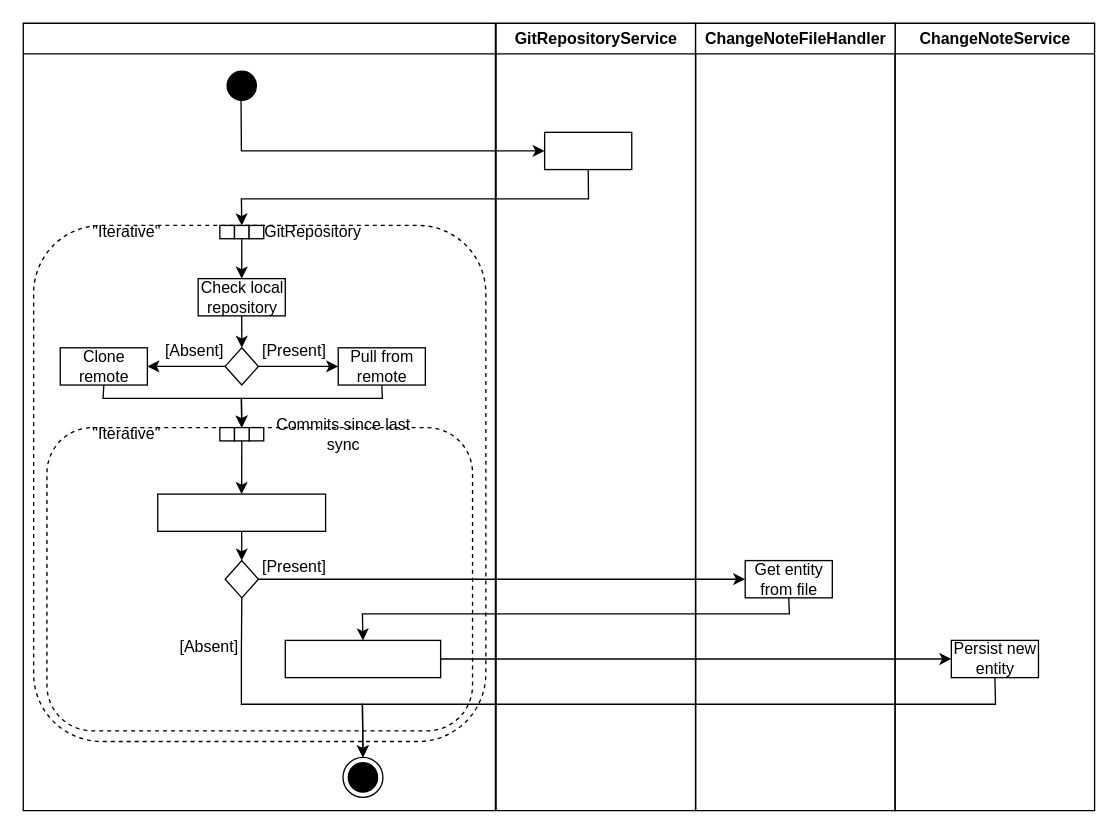
Image size: 1119x834. Some labels were removed from this diagram. The shapes that lost their labels are listed below. From the top down, each one's box as (x1, y1, x2, y2) in pixels, then its label:
(543, 131, 632, 170): Get all repositories
(22, 22, 495, 811): SyncGitChangeNotes
(156, 493, 326, 531): Check if commit contains new change note file
(284, 639, 441, 678): Append commit hash and timestamp to entity
